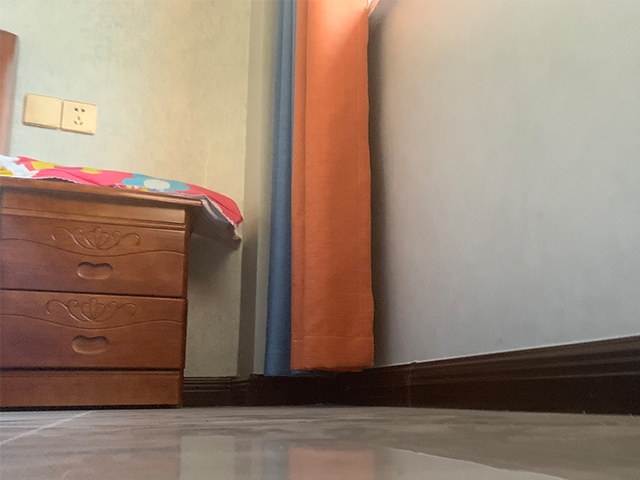cabinet: (1, 176, 204, 410)
curtain: (264, 1, 377, 381)
